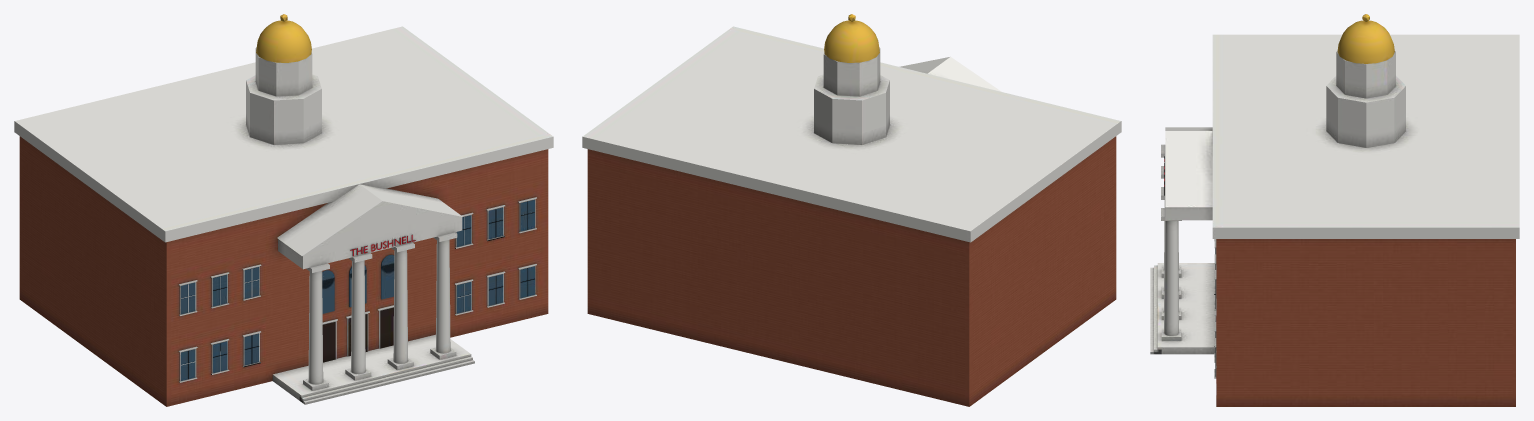
The model's file is bushnell_teatro.glb.
3 views of the same model, side by side, from view 1: azimuth 30°, elevation 25°; view 2: azimuth 150°, elevation 25°; view 3: azimuth 270°, elevation 25° (orthographic).
Visible parts, largest first — view 1: bushnell_teatro; view 2: bushnell_teatro; view 3: bushnell_teatro.
Boxes of the visible parts, left/top/right/bottom form: bushnell_teatro: left=14, top=14, right=553, bottom=406; bushnell_teatro: left=582, top=14, right=1121, bottom=406; bushnell_teatro: left=1150, top=14, right=1519, bottom=406.
Bounding box in the file's own units: 36.6 × 26.35 × 29.6.
Materials: 1 (1 with a texture image).
